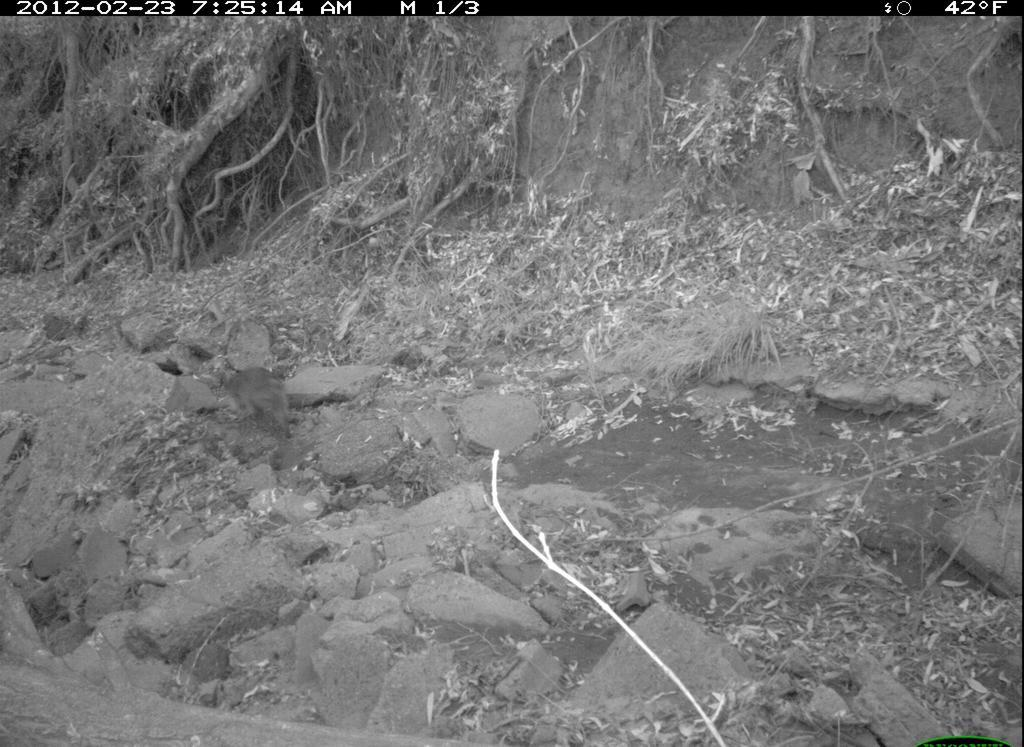raccoon: (207, 353, 309, 446)
